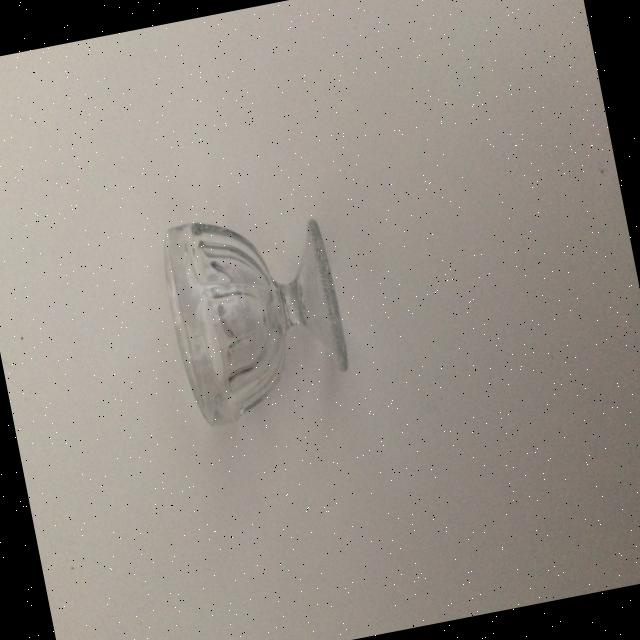glass: (151, 196, 356, 431)
